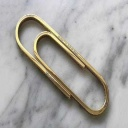Metal: (11, 11, 111, 117)
